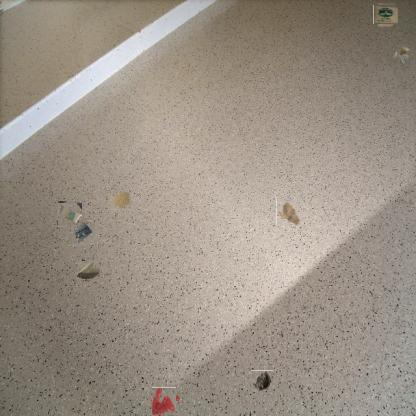dirty: (68, 219, 94, 246), (276, 199, 301, 225), (76, 258, 100, 282), (57, 202, 81, 226), (375, 3, 397, 26), (252, 370, 273, 392), (394, 47, 413, 67)
liquid: (150, 389, 178, 416), (108, 190, 130, 212)
